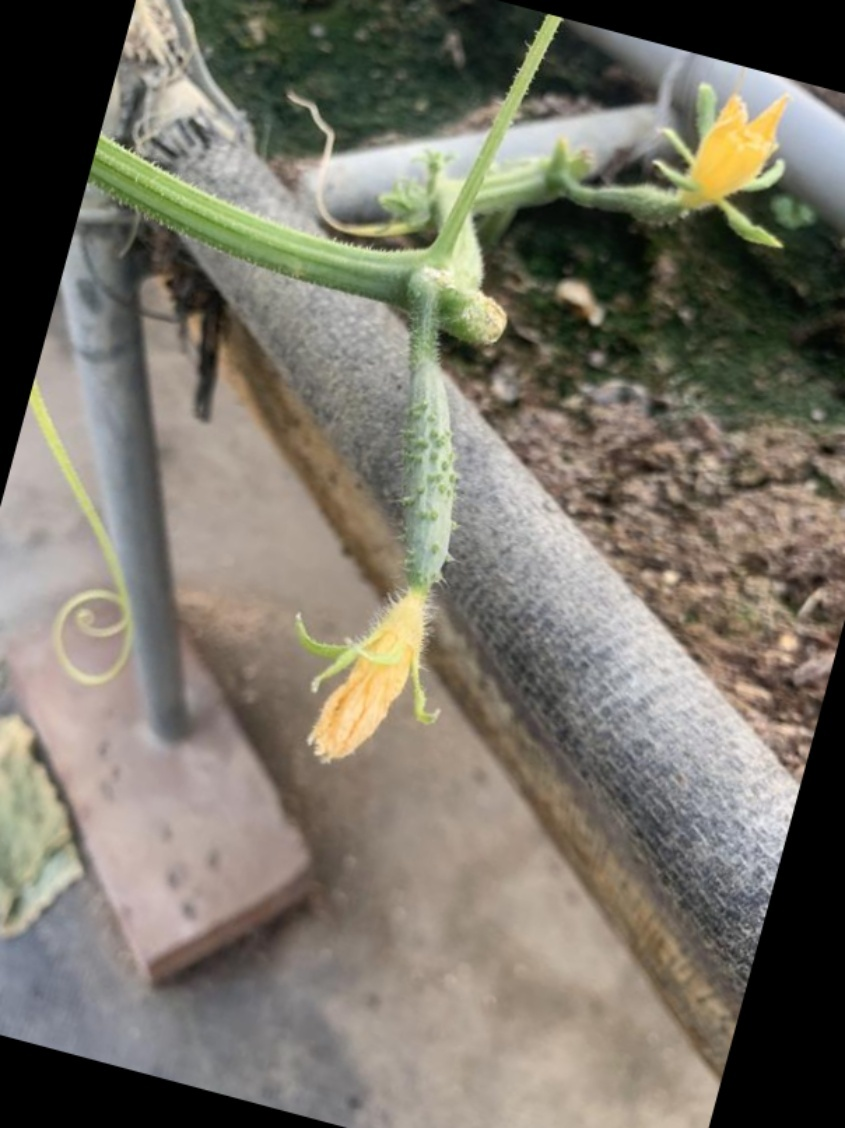bear: (284, 329, 490, 766), (575, 83, 786, 256)
